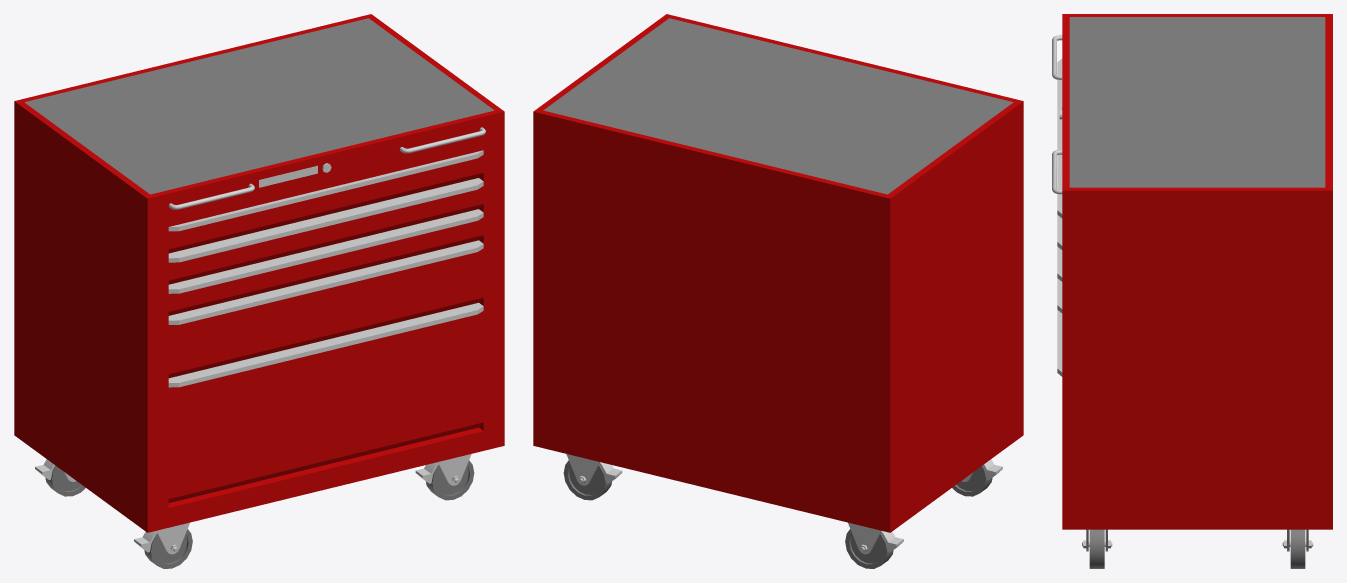
Rendered from Toolbox.gltf.
3 views of the same model, side by side, from view 1: azimuth 30°, elevation 25°; view 2: azimuth 150°, elevation 25°; view 3: azimuth 270°, elevation 25° (orthographic).
Visible parts, largest first — view 1: node-0; view 2: node-0; view 3: node-0.
Part boxes in pixels (box(x1,y1,x2,y2)): node-0: box(14, 14, 504, 568); node-0: box(533, 14, 1023, 568); node-0: box(1052, 14, 1332, 568).
Bounding box in the file's own units: 0.85 × 0.885 × 0.5705.
